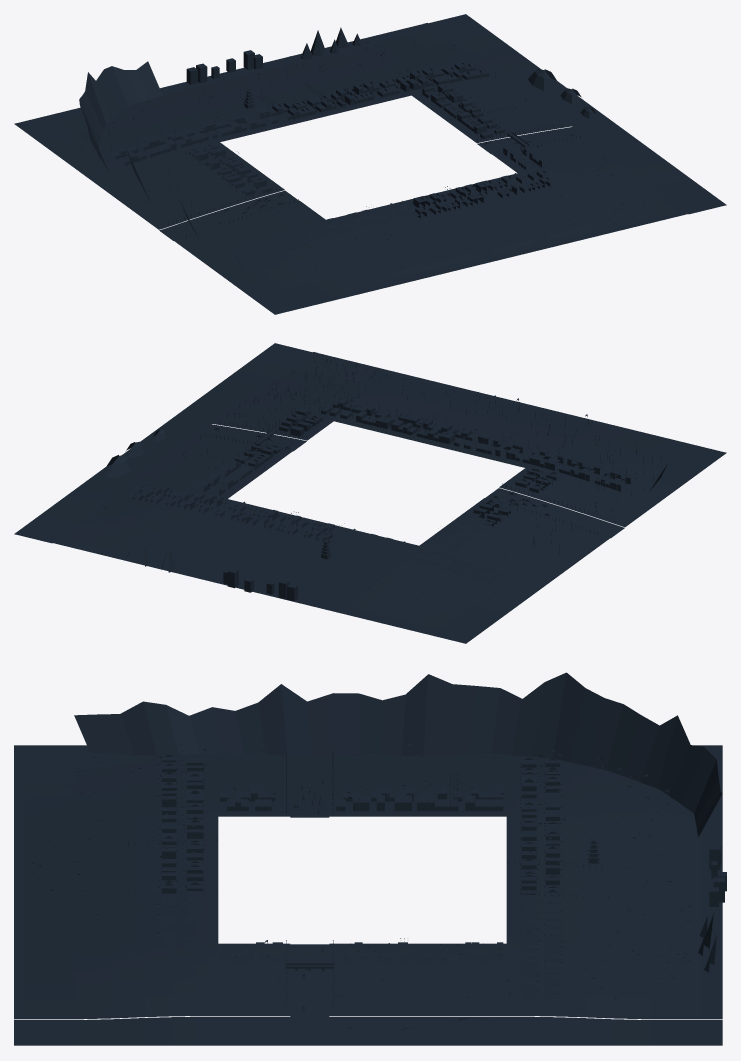
The model's file is outskirts_band.glb.
The picture shows the model from 3 angles, top to bottom: view 1: azimuth 30°, elevation 25°; view 2: azimuth 150°, elevation 25°; view 3: azimuth 270°, elevation 25°; orthographic projection. The views are drawn at different scales.
Parts seen in each view (by area): view 1: OutskirtsBand; view 2: OutskirtsBand; view 3: OutskirtsBand.
Part boxes in pixels (x1=…): OutskirtsBand: x1=14, y1=14, x2=726, y2=314; OutskirtsBand: x1=14, y1=343, x2=726, y2=643; OutskirtsBand: x1=14, y1=672, x2=726, y2=1045.
Bounding box in the file's own units: 474 × 59.14 × 475.
